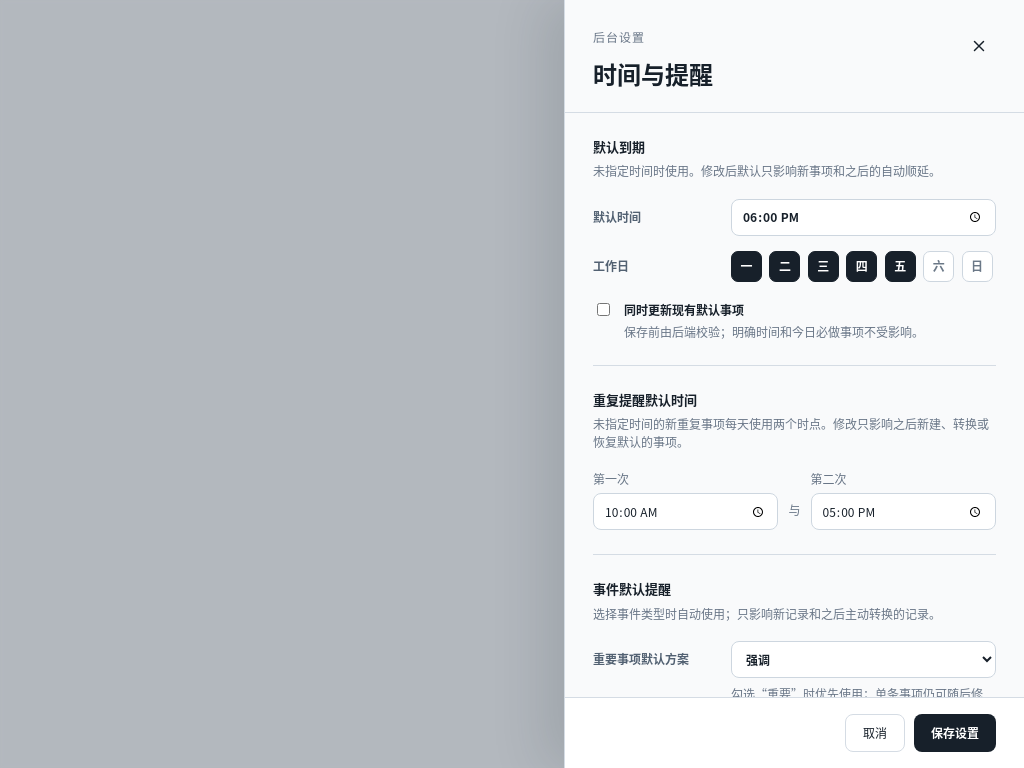
it: SettingsPanel › 重复提醒默认时间相同时不提交设置
Replace the text in the time field labelled "第二次" with "10:00" at (903, 512), box top-left (810, 493), bottom-right (996, 530)
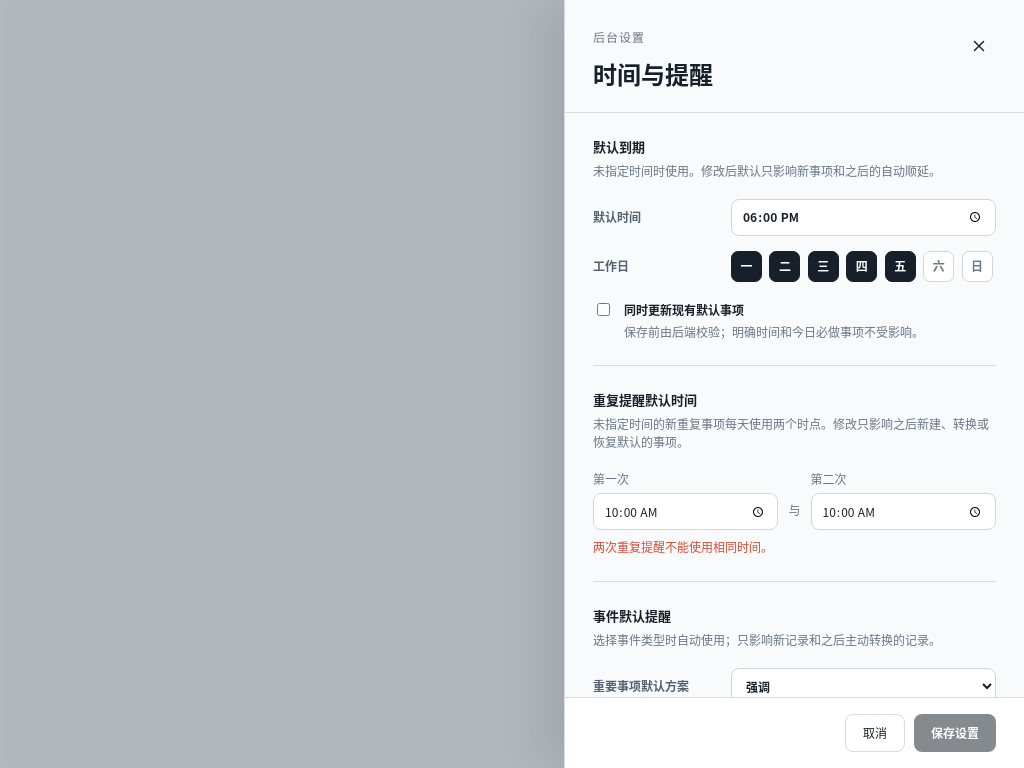
Now the message shows "不能使用相同时间", box top-left (593, 538), bottom-right (773, 555)
Now the button "保存设置" is disabled, box top-left (914, 714), bottom-right (996, 752)
